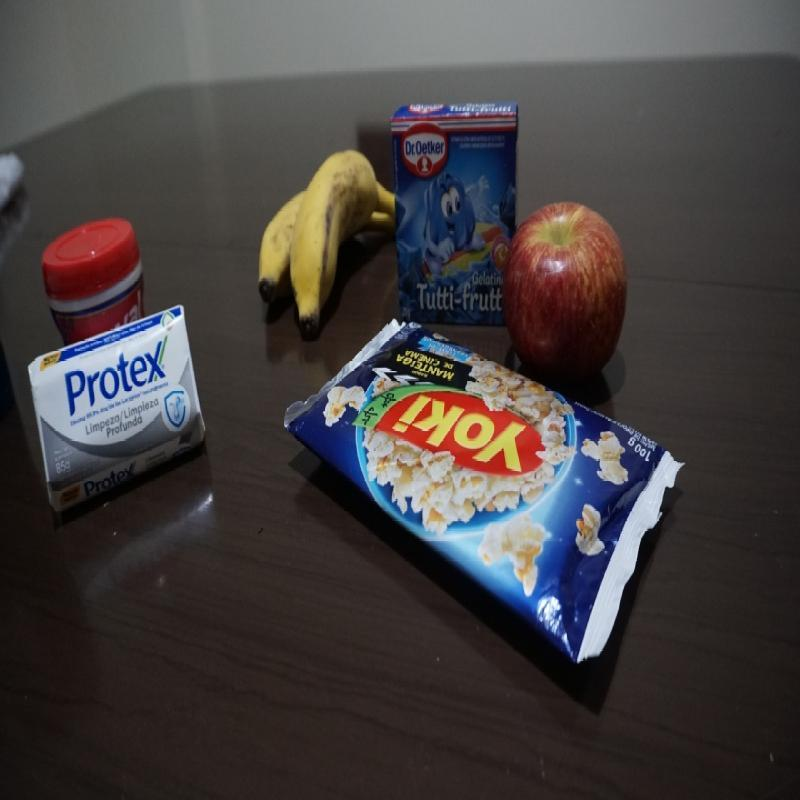Apple: (501, 200, 627, 382)
Banana: (257, 147, 396, 332)
Gelatine: (389, 101, 523, 336)
Popcorn: (283, 317, 688, 665)
Soap: (24, 304, 209, 516)
Yeast: (40, 214, 156, 348)
